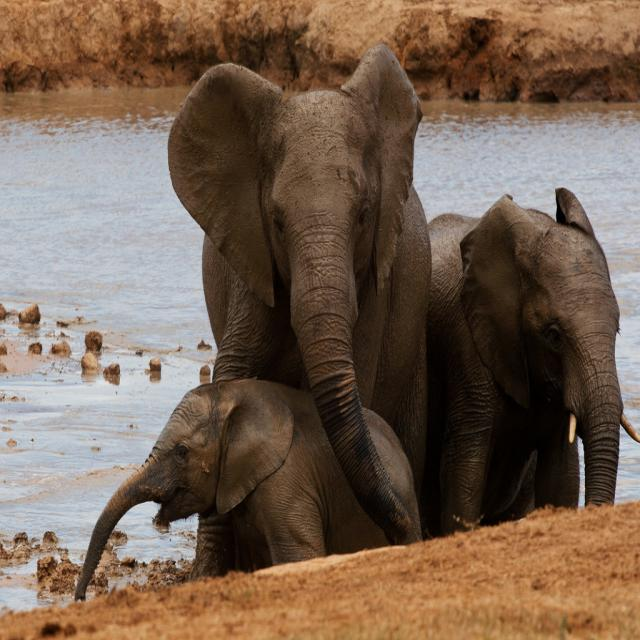elephant: (158, 52, 448, 556), (67, 374, 430, 601), (428, 181, 640, 543)
